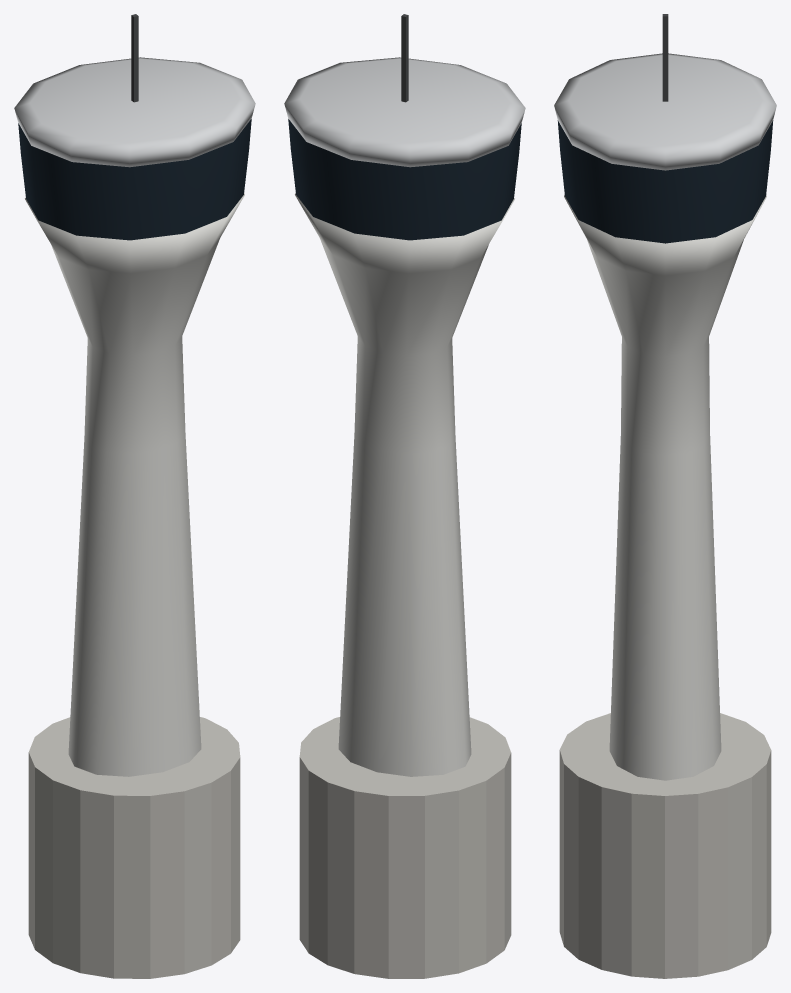
Rendered from sfo-tower_lod1.glb.
The picture shows the model from 3 angles, left to right: view 1: azimuth 30°, elevation 25°; view 2: azimuth 150°, elevation 25°; view 3: azimuth 270°, elevation 25°; orthographic projection.
Visible parts, largest first — view 1: sfo-tower_lod1_tower_shaft, sfo-tower_lod1_concrete, sfo-tower_lod1_tower_flare, sfo-tower_lod1_tower_glass, sfo-tower_lod1_dark; view 2: sfo-tower_lod1_tower_shaft, sfo-tower_lod1_concrete, sfo-tower_lod1_tower_flare, sfo-tower_lod1_tower_glass, sfo-tower_lod1_dark; view 3: sfo-tower_lod1_tower_shaft, sfo-tower_lod1_concrete, sfo-tower_lod1_tower_flare, sfo-tower_lod1_tower_glass, sfo-tower_lod1_dark.
Part boxes in pixels (left/top/right/bottom): sfo-tower_lod1_tower_shaft: left=25, top=193, right=244, bottom=776; sfo-tower_lod1_concrete: left=28, top=717, right=240, bottom=978; sfo-tower_lod1_tower_flare: left=14, top=57, right=255, bottom=167; sfo-tower_lod1_tower_glass: left=18, top=119, right=251, bottom=240; sfo-tower_lod1_dark: left=131, top=14, right=138, bottom=102; sfo-tower_lod1_tower_shaft: left=295, top=193, right=514, bottom=776; sfo-tower_lod1_concrete: left=299, top=717, right=511, bottom=978; sfo-tower_lod1_tower_flare: left=284, top=57, right=525, bottom=167; sfo-tower_lod1_tower_glass: left=288, top=119, right=521, bottom=240; sfo-tower_lod1_dark: left=401, top=14, right=408, bottom=102; sfo-tower_lod1_tower_shaft: left=564, top=195, right=766, bottom=780; sfo-tower_lod1_concrete: left=559, top=713, right=771, bottom=978; sfo-tower_lod1_tower_flare: left=554, top=53, right=776, bottom=170; sfo-tower_lod1_tower_glass: left=557, top=120, right=773, bottom=243; sfo-tower_lod1_dark: left=662, top=14, right=668, bottom=101.
Bounding box in the file's own units: 18.4 × 75.36 × 16.56.
